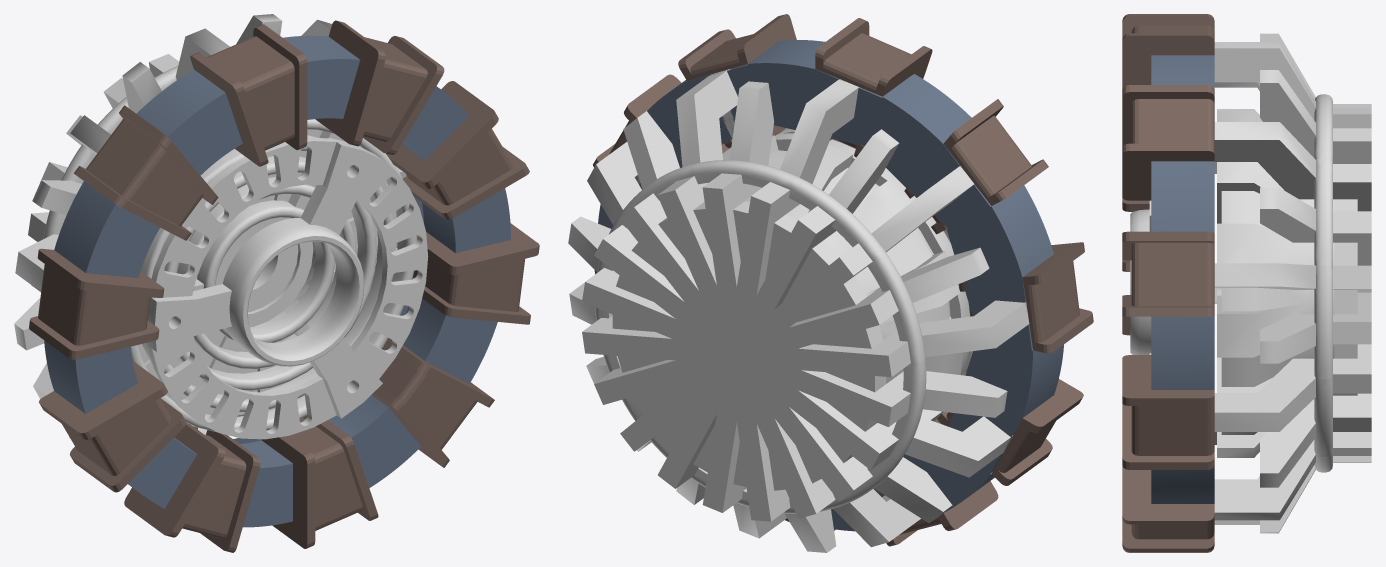
Rendered from arc-reactor.glb.
3 renders of one model, left to right at view 1: azimuth 30°, elevation 25°; view 2: azimuth 150°, elevation 25°; view 3: azimuth 270°, elevation 25°, orthographic.
Visible parts, largest first — view 1: arc-reactor; view 2: arc-reactor; view 3: arc-reactor.
Boxes of the visible parts, x1,y1,x2,y2 form: arc-reactor: [14, 14, 539, 552]; arc-reactor: [568, 14, 1093, 552]; arc-reactor: [1122, 14, 1371, 552].
Bounding box in the file's own units: 0.9928 × 1 × 0.4557.
